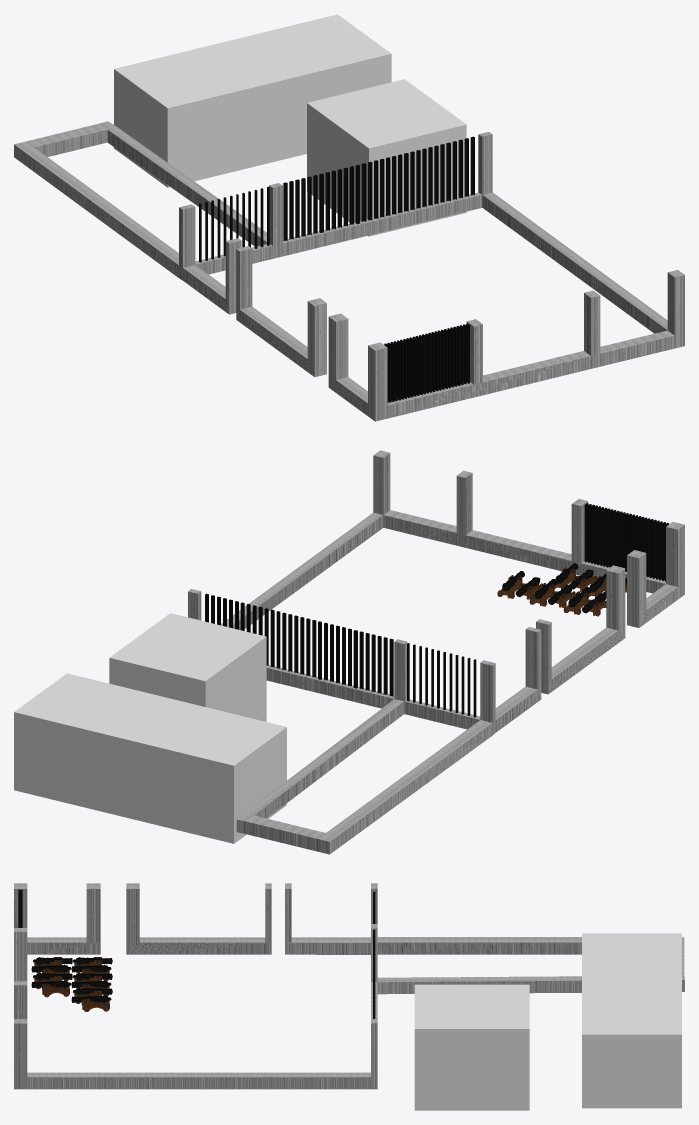
Rendered from almacen.glb.
3 renders of one model, top to bottom at view 1: azimuth 30°, elevation 25°; view 2: azimuth 150°, elevation 25°; view 3: azimuth 270°, elevation 25°, orthographic. The views are drawn at different scales.
Visible parts, largest first — view 1: Cube.015, Cube.018, Cube.017; view 2: Cube.015, Cube.018, Cube.017; view 3: Cube.015, Cube.018, Cube.017.
Boxes of the visible parts, x1=… form: Cube.015: x1=14, y1=121, x2=684, y2=421; Cube.018: x1=114, y1=14, x2=391, y2=187; Cube.017: x1=307, y1=79, x2=466, y2=236; Cube.015: x1=188, y1=450, x2=684, y2=854; Cube.018: x1=14, y1=673, x2=286, y2=843; Cube.017: x1=109, y1=613, x2=266, y2=721; Cube.015: x1=14, y1=883, x2=684, y2=1089; Cube.018: x1=582, y1=933, x2=681, y2=1108; Cube.017: x1=414, y1=984, x2=529, y2=1110.
Bounding box in the file's own units: 52.29 × 14.75 × 102.
3 materials, 1 textured.
